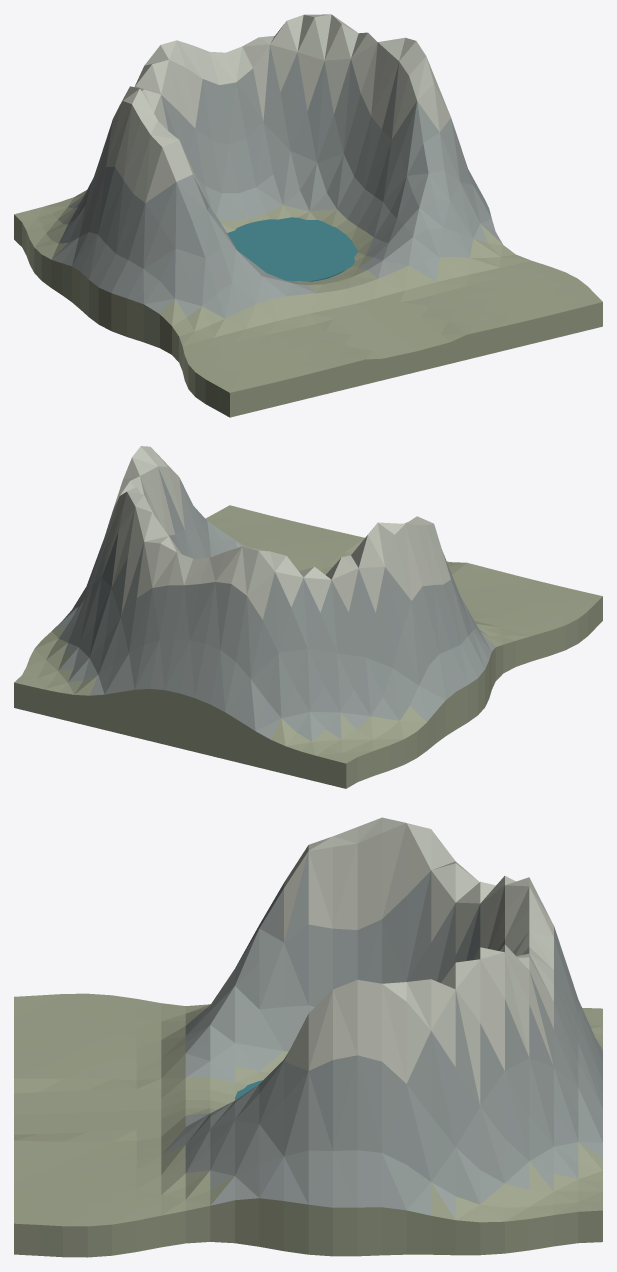
3 renders of one model, top to bottom at view 1: azimuth 30°, elevation 25°; view 2: azimuth 150°, elevation 25°; view 3: azimuth 270°, elevation 25°, orthographic. The views are drawn at different scales.
Parts seen in each view (by area): view 1: WholeOpenFrontBasinAndHorseshoeHeadwall, WholeQuietOpaqueBasinTarn; view 2: WholeOpenFrontBasinAndHorseshoeHeadwall; view 3: WholeOpenFrontBasinAndHorseshoeHeadwall.
Part boxes in pixels (x1,y1,x2,y2): WholeOpenFrontBasinAndHorseshoeHeadwall: (14,14,602,417); WholeQuietOpaqueBasinTarn: (227,217,358,281); WholeOpenFrontBasinAndHorseshoeHeadwall: (14,446,602,788); WholeOpenFrontBasinAndHorseshoeHeadwall: (14,817,602,1257).
Size of the model in its own units: 5.8 by 2.86 by 6.2.
